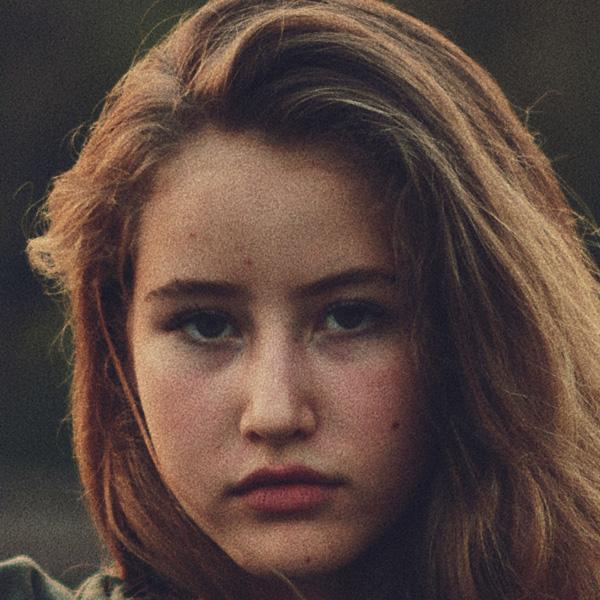Eyes: (161, 301, 250, 353), (306, 296, 395, 344)
